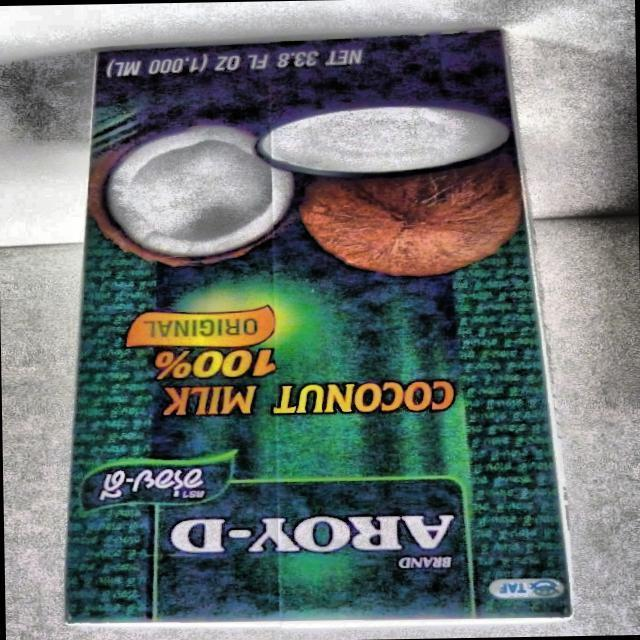cardboard: (54, 29, 573, 633)
